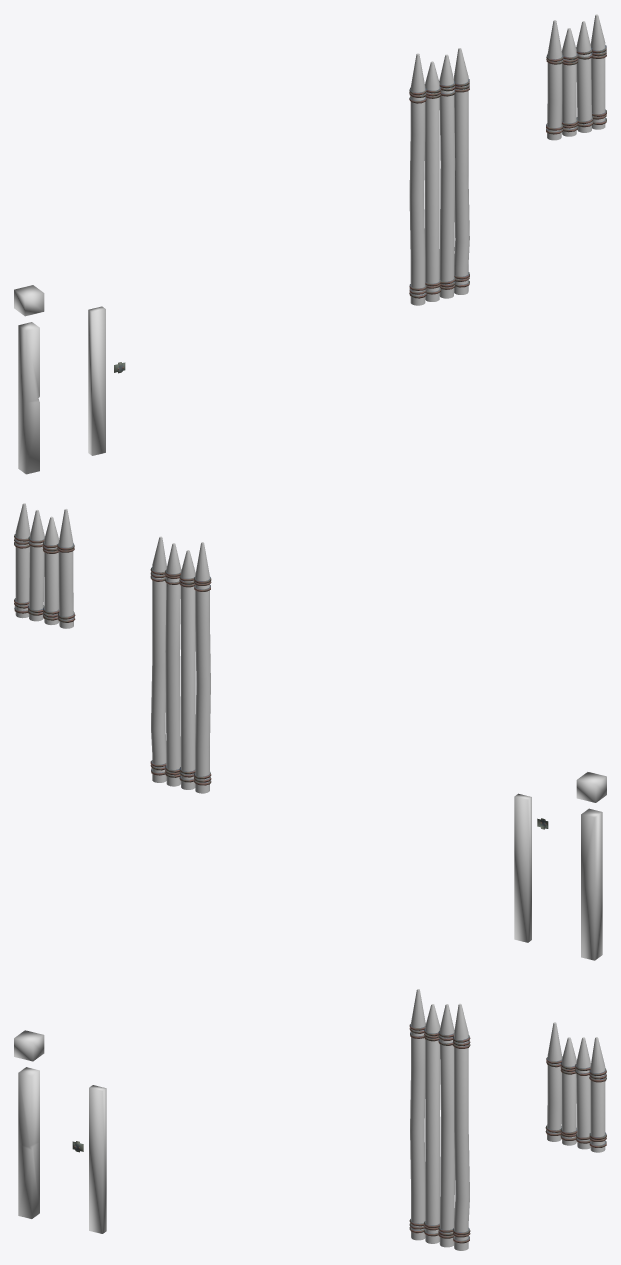
File: wood_set_02.fbx
3 views of the same model, one above another, from view 1: azimuth 30°, elevation 25°; view 2: azimuth 150°, elevation 25°; view 3: azimuth 330°, elevation 25° (orthographic).
Parts seen in each view (by area): view 1: wood_spikes_01, wood_spikes_02, wood_post_01, wood_post_02, rope, rope (2), metal_connector_01; view 2: wood_spikes_01, wood_spikes_02, wood_post_01, wood_post_02, rope, rope (2), metal_connector_01; view 3: wood_spikes_01, wood_spikes_02, wood_post_01, wood_post_02, rope, rope (2), metal_connector_01.
Part boxes in pixels (left/top/right/bottom): wood_spikes_01: left=409, top=48, right=469, bottom=305; wood_spikes_02: left=547, top=14, right=605, bottom=140; wood_post_01: left=18, top=322, right=39, bottom=474; wood_post_02: left=88, top=306, right=105, bottom=455; rope: left=409, top=79, right=469, bottom=298; rope (2): left=546, top=45, right=606, bottom=134; metal_connector_01: left=14, top=285, right=44, bottom=316; wood_spikes_01: left=151, top=536, right=210, bottom=793; wood_spikes_02: left=15, top=503, right=73, bottom=628; wood_post_01: left=581, top=808, right=602, bottom=960; wood_post_02: left=514, top=793, right=531, bottom=942; rope: left=150, top=567, right=211, bottom=785; rope (2): left=14, top=534, right=75, bottom=622; metal_connector_01: left=576, top=772, right=606, bottom=802; wood_spikes_01: left=410, top=989, right=469, bottom=1250; wood_spikes_02: left=547, top=1022, right=605, bottom=1152; wood_post_01: left=18, top=1067, right=39, bottom=1218; wood_post_02: left=89, top=1085, right=106, bottom=1233; rope: left=409, top=1023, right=470, bottom=1243; rope (2): left=545, top=1057, right=606, bottom=1147; metal_connector_01: left=14, top=1030, right=44, bottom=1061.
Bounding box in the file's own units: 2142 × 1116 × 174.
